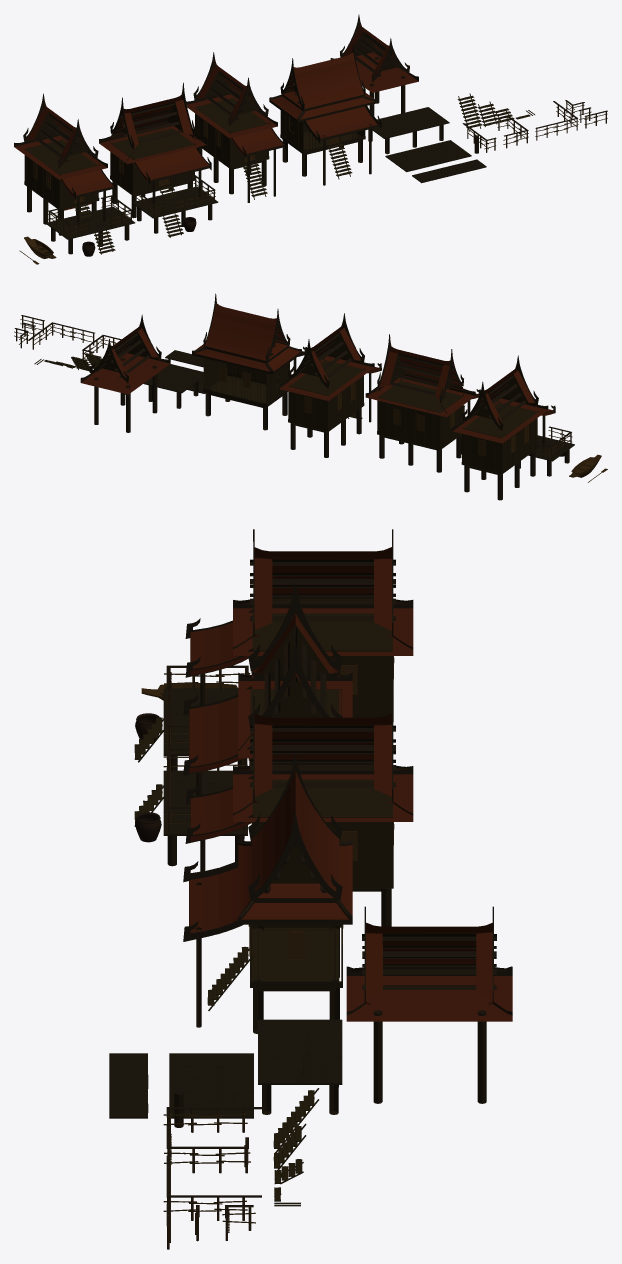
Rendered from Thai house.obj.
The picture shows the model from 3 angles, top to bottom: view 1: azimuth 30°, elevation 25°; view 2: azimuth 150°, elevation 25°; view 3: azimuth 270°, elevation 25°; orthographic projection. The views are drawn at different scales.
Parts seen in each view (by area): view 1: House_2_Cube.006, House_1_Cube.078, House_4_Cube.017, House_3_Cube.068, pavilion_Cube.070, Plane.049_Plane.042, Plane.050_Plane.044, Plane.003_Plane.074, Cylinder.054, Plane.002_Plane.067, Plane.017_Plane.045, Plane.001_Plane.066 (+2 smaller); view 2: House_2_Cube.006, House_1_Cube.078, House_4_Cube.017, House_3_Cube.068, pavilion_Cube.070, Plane.049_Plane.042, Cylinder.054, Canoe_Plane.126, Plane.003_Plane.074, Plane.050_Plane.044; view 3: House_1_Cube.078, House_4_Cube.017, House_3_Cube.068, House_2_Cube.006, pavilion_Cube.070, Plane.049_Plane.042, Plane.050_Plane.044, Plane.003_Plane.074, Cylinder.056, Cylinder.054.
Boxes of the visible parts, x1,y1,x2,y2 form: House_2_Cube.006: [99, 82, 218, 237]; House_1_Cube.078: [14, 93, 135, 254]; House_4_Cube.017: [269, 43, 381, 185]; House_3_Cube.068: [186, 52, 285, 202]; pavilion_Cube.070: [330, 14, 418, 115]; Plane.049_Plane.042: [368, 107, 449, 154]; Plane.050_Plane.044: [385, 140, 471, 172]; Plane.003_Plane.074: [412, 159, 486, 183]; Cylinder.054: [535, 101, 578, 140]; Plane.002_Plane.067: [327, 143, 352, 179]; Plane.017_Plane.045: [457, 93, 482, 131]; Plane.001_Plane.066: [243, 162, 267, 199]; House_2_Cube.006: [365, 334, 480, 472]; House_1_Cube.078: [452, 355, 574, 500]; House_4_Cube.017: [192, 293, 306, 430]; House_3_Cube.068: [279, 313, 381, 457]; pavilion_Cube.070: [80, 314, 170, 432]; Plane.049_Plane.042: [125, 367, 203, 408]; Cylinder.054: [28, 322, 94, 349]; Canoe_Plane.126: [569, 454, 601, 477]; Plane.003_Plane.074: [165, 350, 203, 367]; Plane.050_Plane.044: [166, 364, 205, 393]; House_1_Cube.078: [134, 529, 413, 770]; House_4_Cube.017: [183, 752, 352, 1033]; House_3_Cube.068: [185, 695, 413, 926]; House_2_Cube.006: [134, 582, 352, 866]; pavilion_Cube.070: [346, 906, 512, 1103]; Plane.049_Plane.042: [258, 1019, 342, 1114]; Plane.050_Plane.044: [169, 1053, 253, 1118]; Plane.003_Plane.074: [109, 1053, 148, 1118]; Cylinder.056: [164, 1125, 250, 1173]; Cylinder.054: [163, 1155, 261, 1220].
Bounding box in the file's own units: 45.13 × 8.58 × 13.74.
